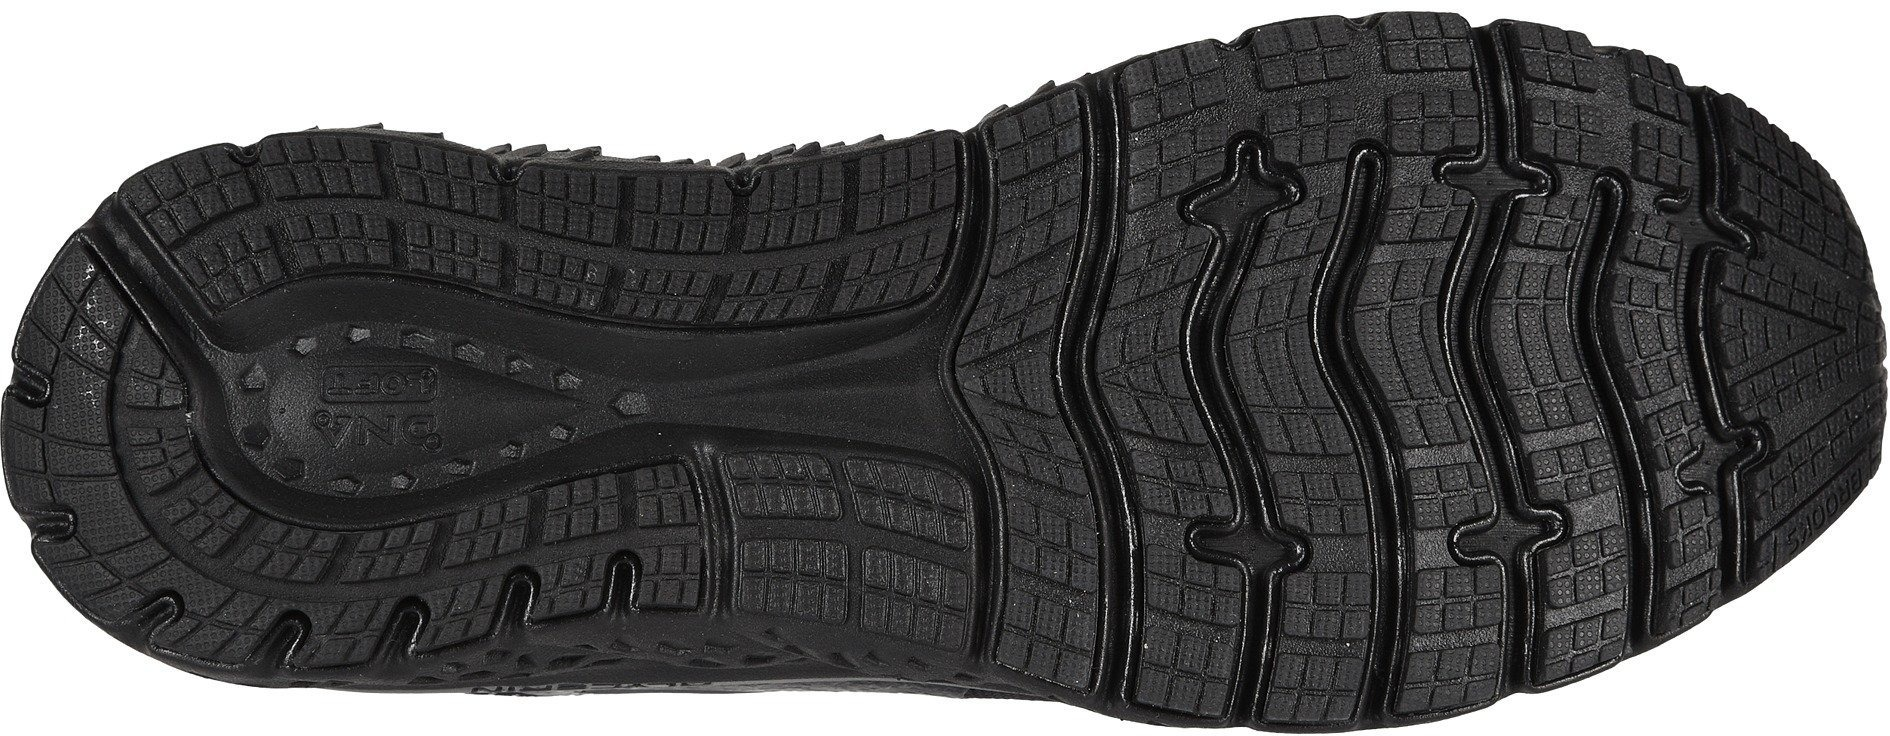quad: (1202, 231, 1491, 501), (1147, 566, 1330, 723), (1002, 116, 1175, 270), (742, 457, 896, 616), (1716, 257, 1863, 416), (1301, 16, 1446, 166), (139, 167, 293, 310), (770, 163, 905, 314), (256, 518, 399, 660), (313, 134, 459, 273), (522, 170, 655, 311), (55, 391, 184, 529), (560, 485, 692, 610), (1399, 569, 1508, 706), (1505, 193, 1583, 300)
ribbon: (677, 263, 944, 513), (433, 276, 687, 525)
text: (319, 360, 423, 459)
